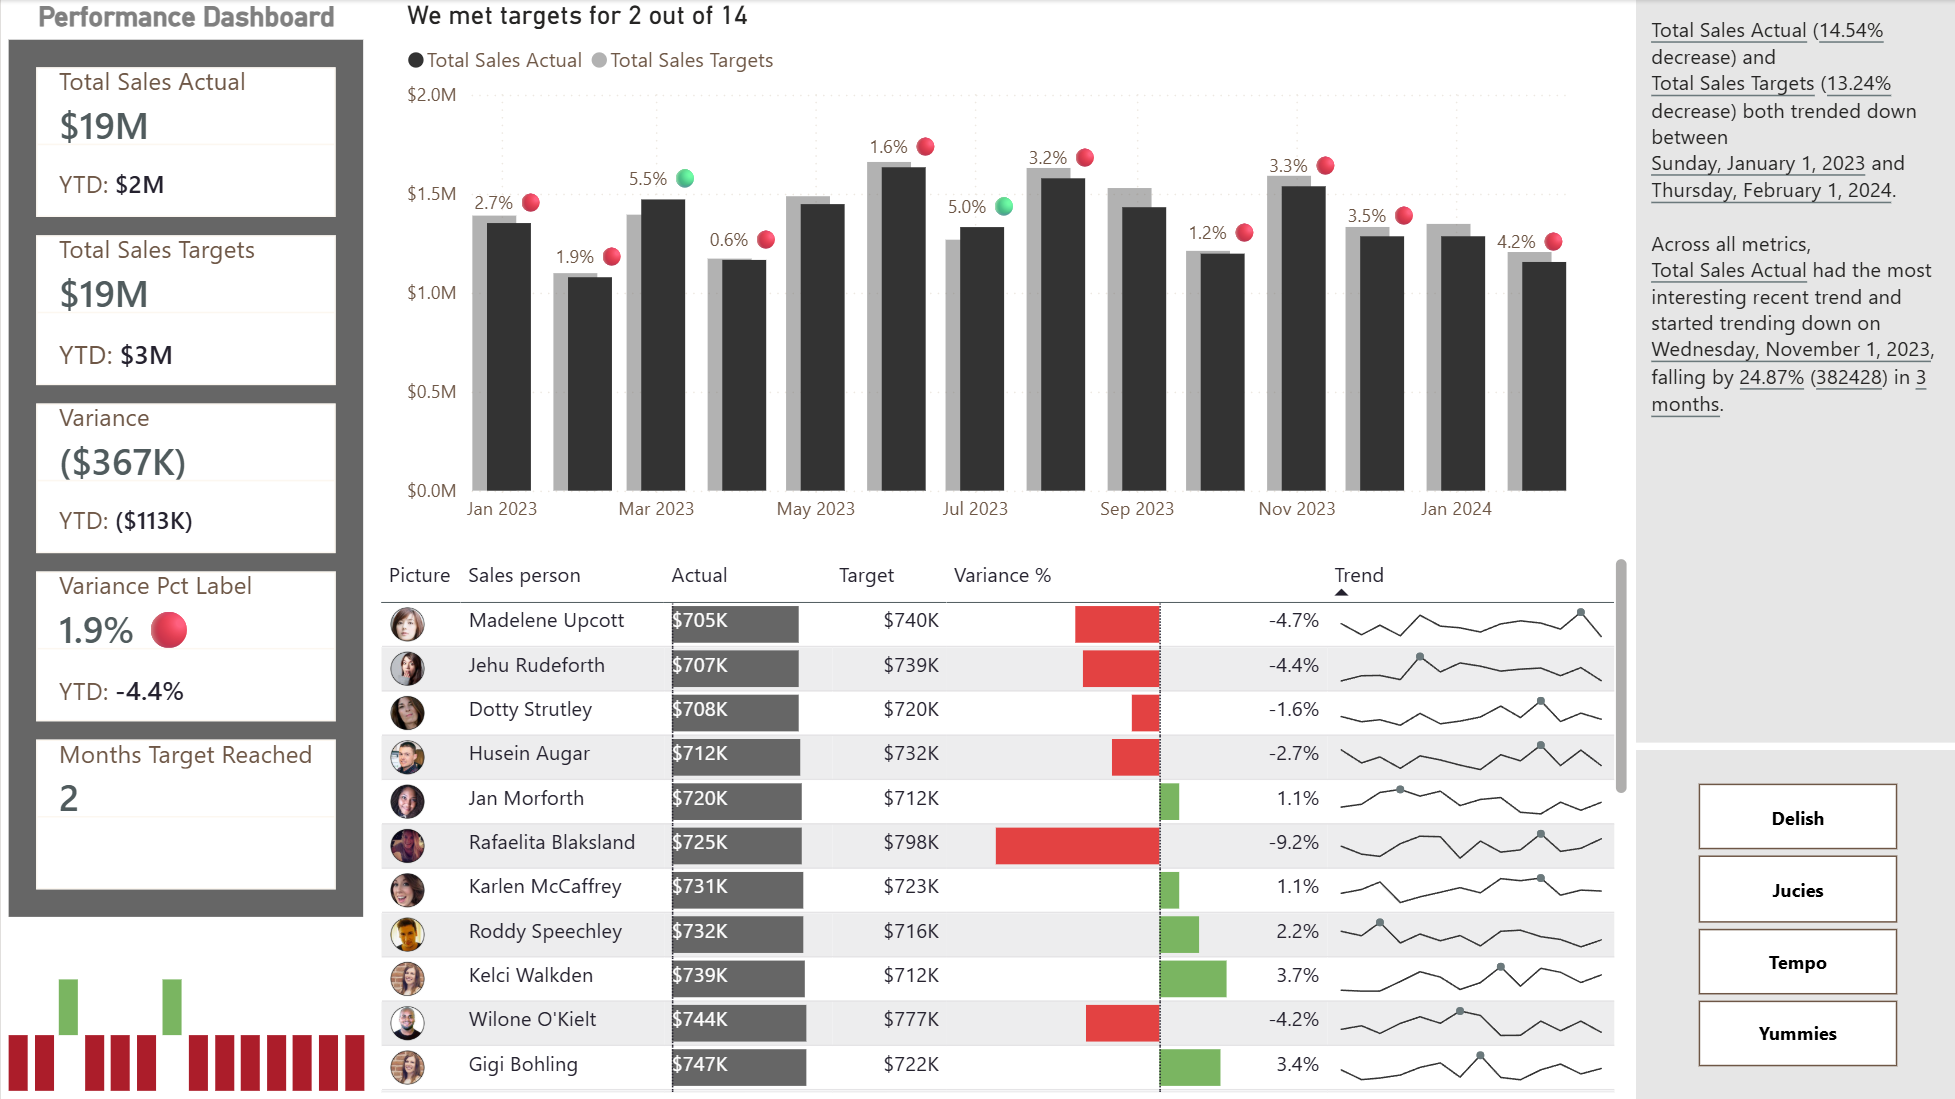

The dashboard page shown, as its layout file describes it:
{"tool":"powerbi","page":{"name":"Finance Dashboard","canvas":[1280,720],"ordinal":1},"visuals":[{"type":"clusteredColumnChart","fields":{"Category":["Calendar.Date"],"Y":["Actual.Target Status"]},"box":[0,626.9,242.8,92.9],"z":0},{"type":"clusteredColumnChart","fields":{"Category":["Calendar.Date"],"Y":["Actual.Total Sales Actual","Targets.Total Sales Targets"]},"box":[260.4,0,774.8,351.4],"z":1000},{"type":"slicer","fields":{"Values":["dimPeople.Team"]},"box":[1069.9,490.8,210.1,229],"z":2000},{"type":"textbox","box":[1069.9,0,210.1,485.6],"z":3000},{"type":"cardVisual","title":"Performance Dashboard","fields":{"Data":["Actual.Total Sales Actual","Targets.Total Sales Targets","Actual.Variance","Actual.Variance Pct Label","Actual.Months Target Reached"]},"box":[0,0,242.8,605.3],"z":4000},{"type":"tableEx","fields":{"Values":["dimPeople.Picture","dimPeople.Sales person","Actual.Total Sales Actual","Targets.Total Sales Targets","Actual.Variance %","SparklineData(Actual.Total Sales Actual_[Calendar.Date])"]},"box":[242.8,359.9,827.2,359.9],"z":5000}]}

Visuals, with their boxes in screenshot pixels (x1, y1, x2, y2), scaled from the page's 1280x720 canvas onto the 1955x1099 screenshot:
clusteredColumnChart - Calendar.Date x Actual.Target Status: bbox=[0, 957, 371, 1098]
clusteredColumnChart - Calendar.Date x Actual.Total Sales Actual: bbox=[398, 0, 1581, 536]
slicer - dimPeople.Team: bbox=[1634, 749, 1954, 1098]
textbox: bbox=[1634, 0, 1954, 741]
"Performance Dashboard" cardVisual: bbox=[0, 0, 371, 924]
tableEx - dimPeople.Picture x dimPeople.Sales person: bbox=[371, 549, 1634, 1098]
